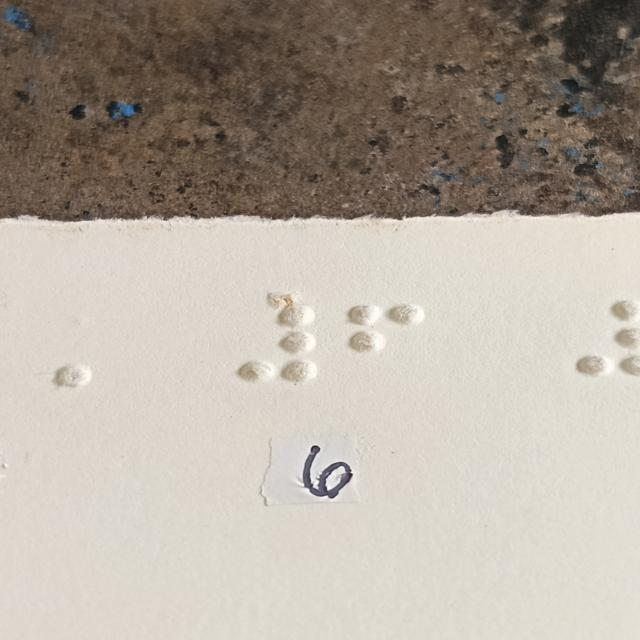digit_6: (348, 301, 424, 380)
number_sign: (236, 303, 319, 382)
